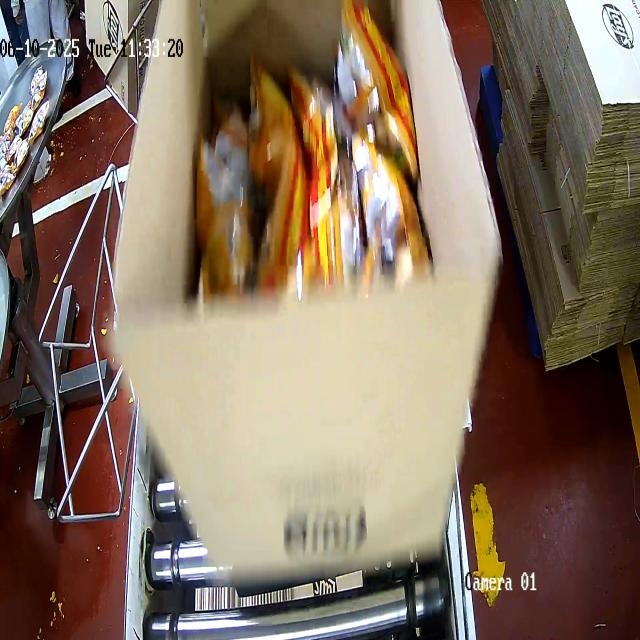FRENCH_CHEESE: (197, 0, 411, 305)
